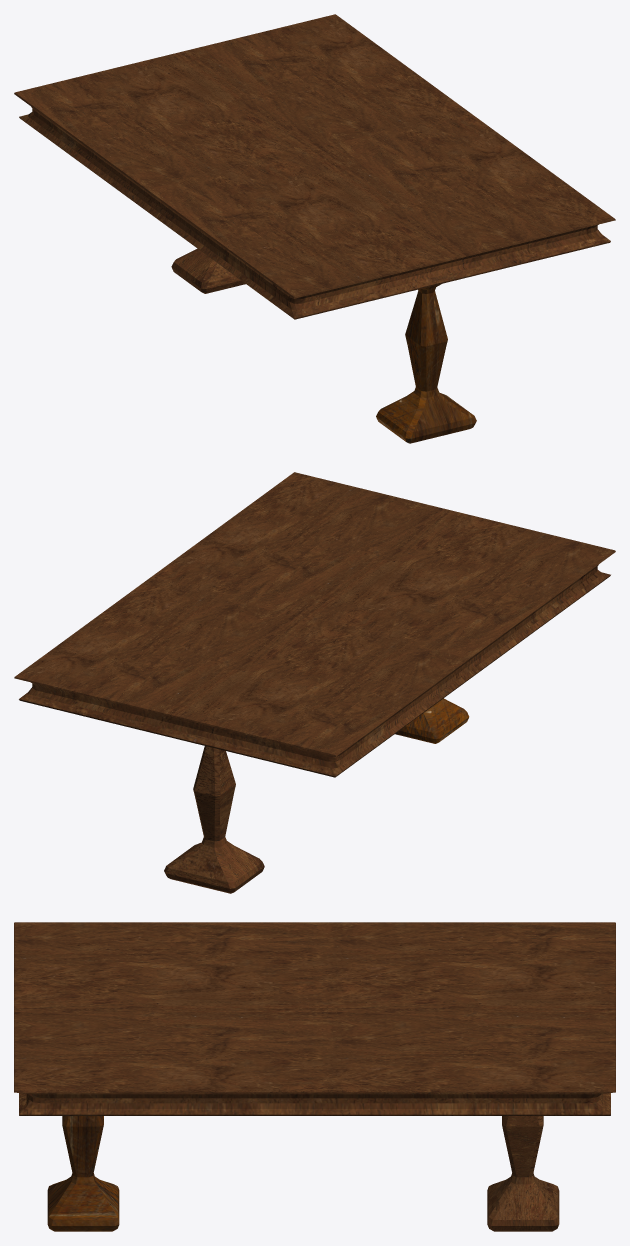
Rendered from lowpoly_wooden_table__game_asset.glb.
3 views of the same model, one above another, from view 1: azimuth 30°, elevation 25°; view 2: azimuth 150°, elevation 25°; view 3: azimuth 270°, elevation 25° (orthographic). The views are drawn at different scales.
Parts seen in each view (by area): view 1: Table; view 2: Table; view 3: Table.
Part boxes in pixels (box(x1,y1,x2,y2)): Table: box(14, 14, 615, 443); Table: box(14, 472, 615, 893); Table: box(14, 922, 615, 1231).
Size of the model in its own units: 7.27 by 4.16 by 10.95.
Materials: 2 (2 with a texture image).
